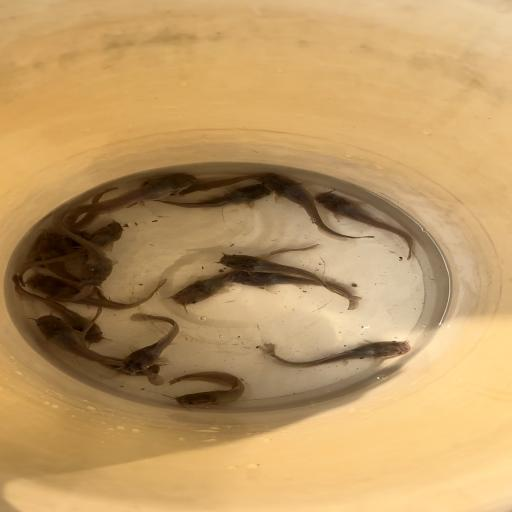lele: (169, 243, 321, 308), (32, 314, 166, 386), (256, 173, 376, 242), (216, 251, 364, 302), (311, 189, 413, 260), (4, 274, 106, 344), (32, 186, 121, 266), (11, 221, 123, 284), (60, 173, 198, 221), (78, 306, 162, 376), (28, 272, 170, 310), (230, 272, 360, 312), (36, 232, 111, 300), (54, 206, 118, 285), (255, 338, 414, 369), (44, 229, 105, 303), (117, 313, 182, 376), (146, 183, 272, 212), (168, 370, 248, 410), (140, 174, 262, 197)
